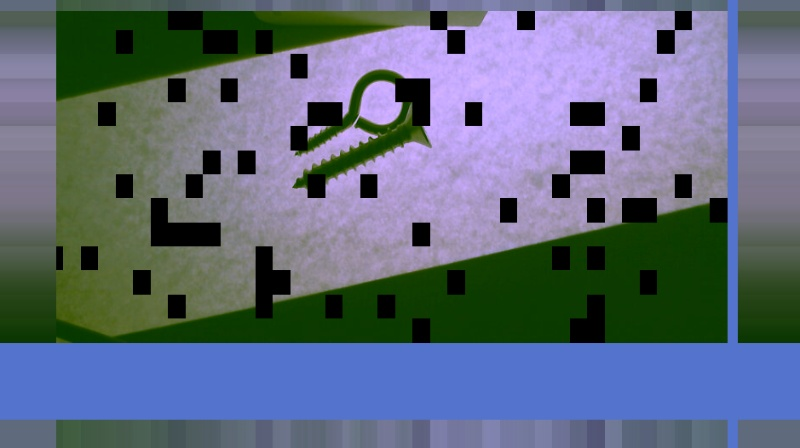O001: (289, 68, 414, 157)
S001: (285, 107, 432, 191)
